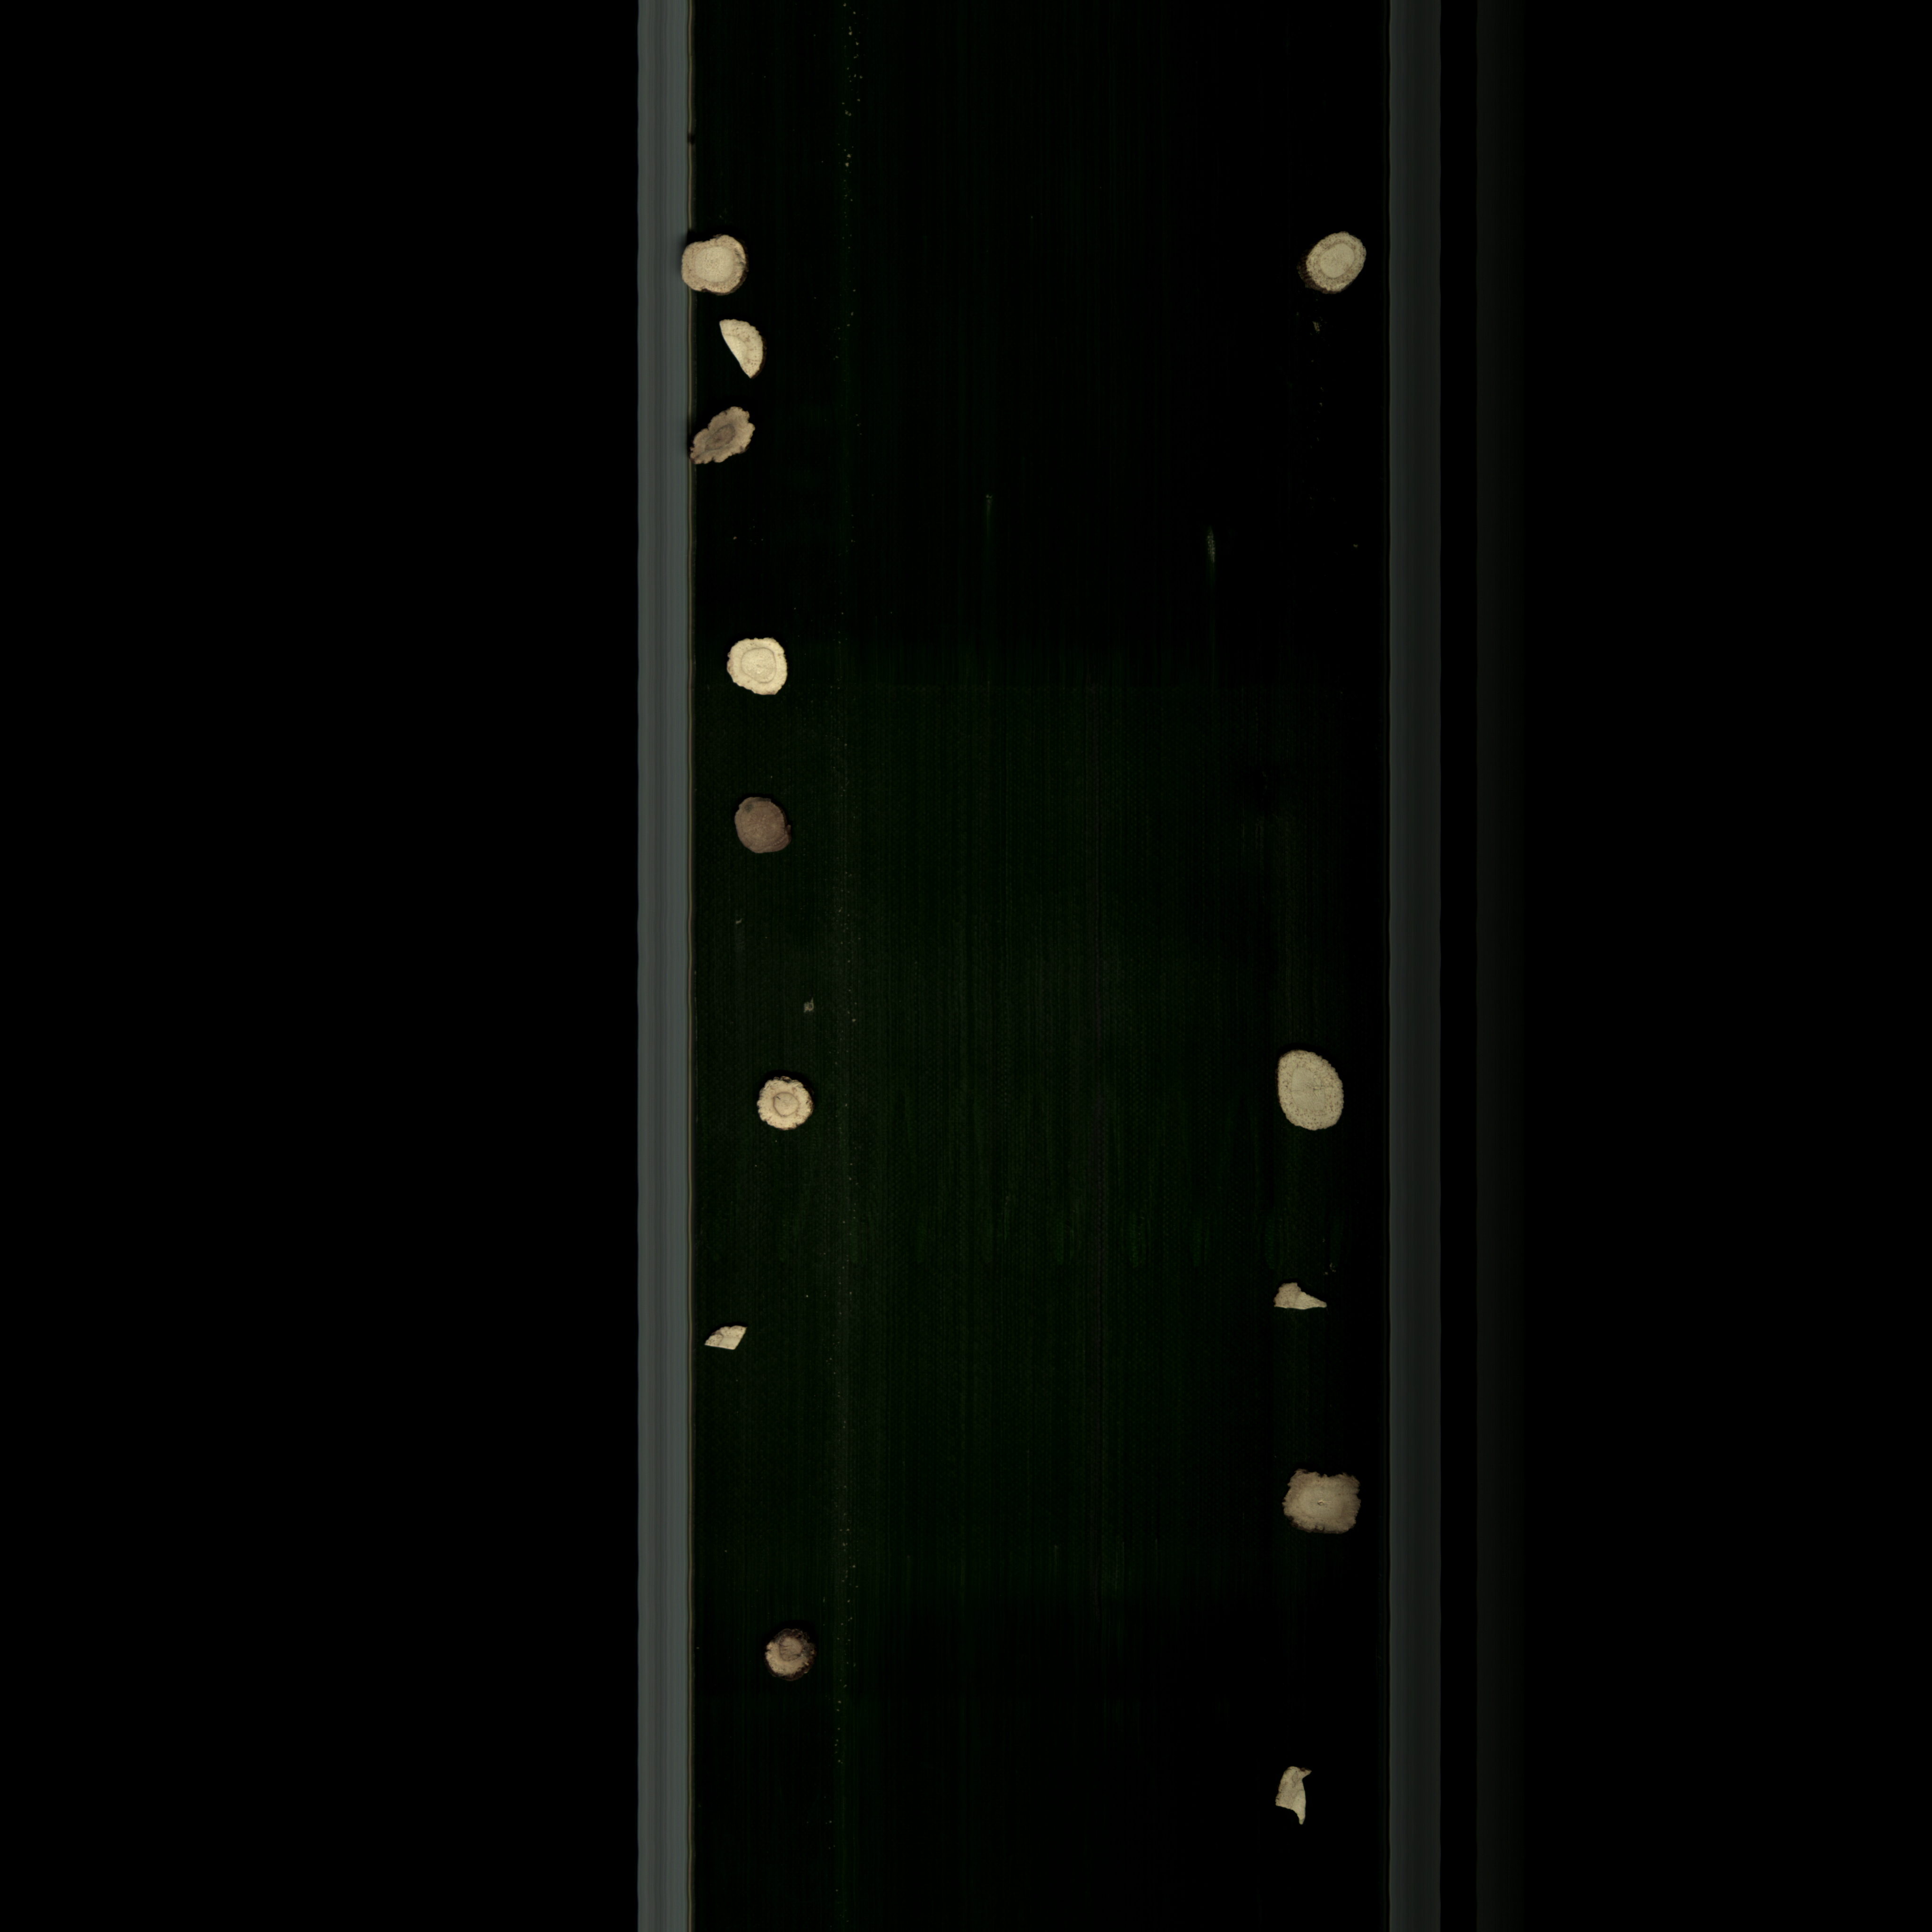bark: (718, 794, 803, 863)
debris: (711, 313, 786, 387)
distortion: (1276, 1456, 1375, 1555), (672, 232, 755, 299)
dreg: (1260, 1270, 1338, 1327), (1267, 1750, 1316, 1835), (695, 1320, 757, 1366)
moldy: (683, 402, 775, 479), (1295, 223, 1373, 299), (747, 1067, 821, 1143), (745, 1622, 828, 1688)
